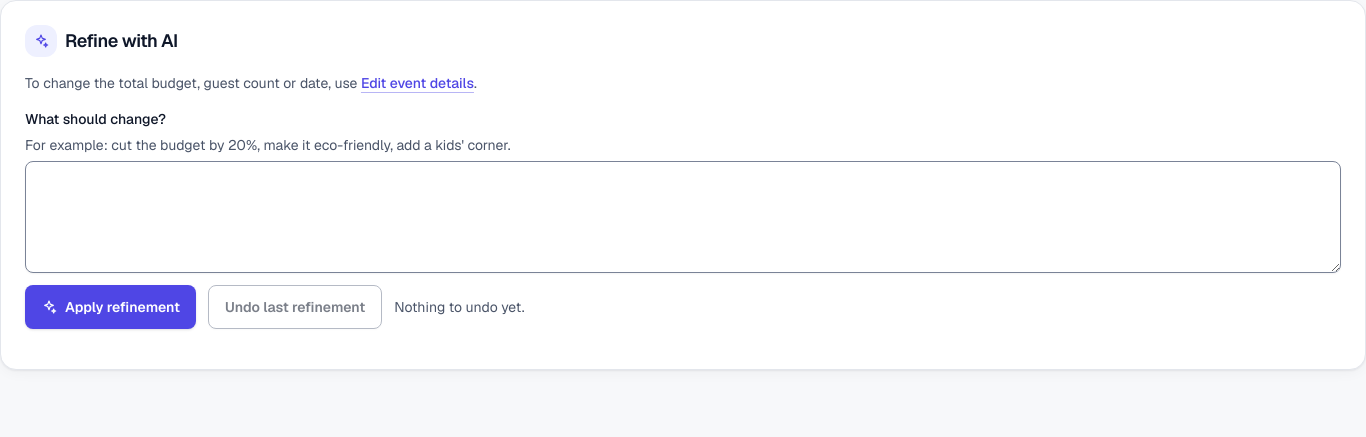
Test: RefinePanel › applies the returned plan, summarises the diff and clears the textarea
Type "  make it greener  " into the text box labelled "What should change?". click: (683, 217)
box: [25, 161, 1341, 273]
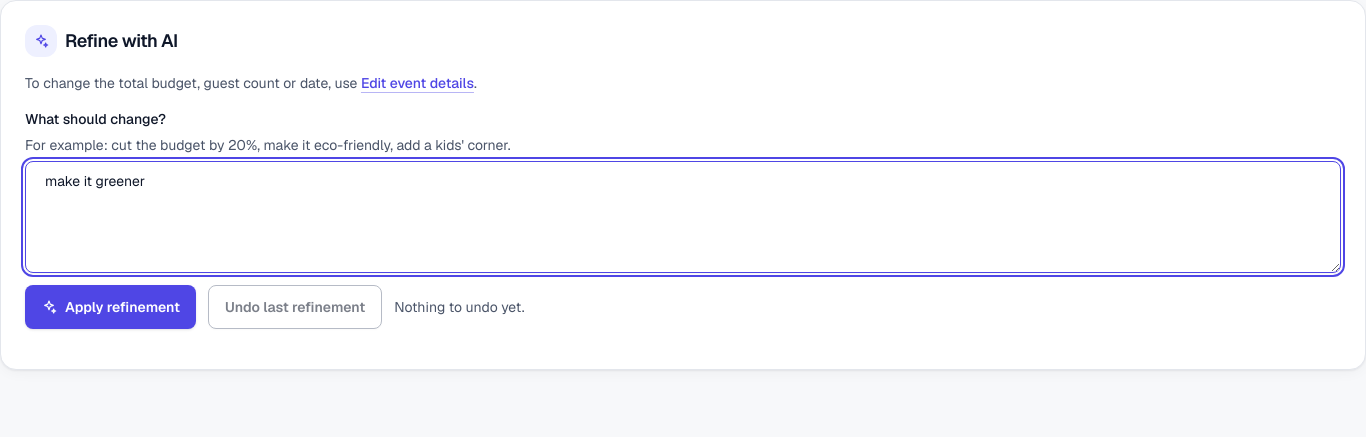
Click the button "Apply refinement". click: (110, 307)
box: [25, 285, 196, 329]
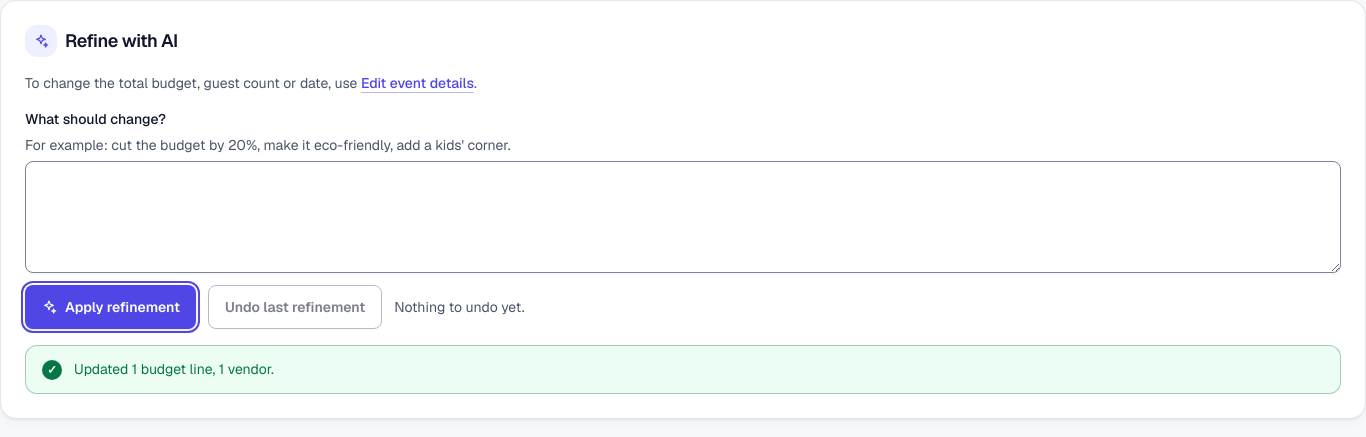
Now the message shows "Updated 1 budget line, 1 vendor.", box [74, 360, 274, 378]
Now the text box labelled "What should change?" is empty, box [25, 161, 1341, 273]
